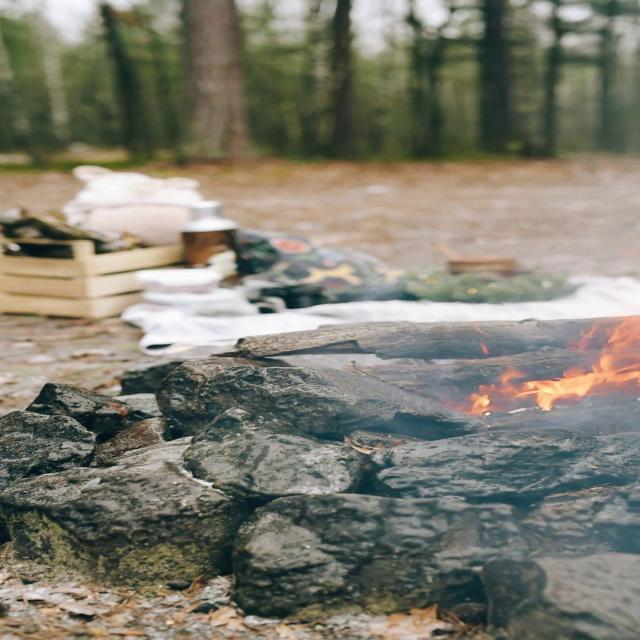Fire: (476, 306, 640, 420)
